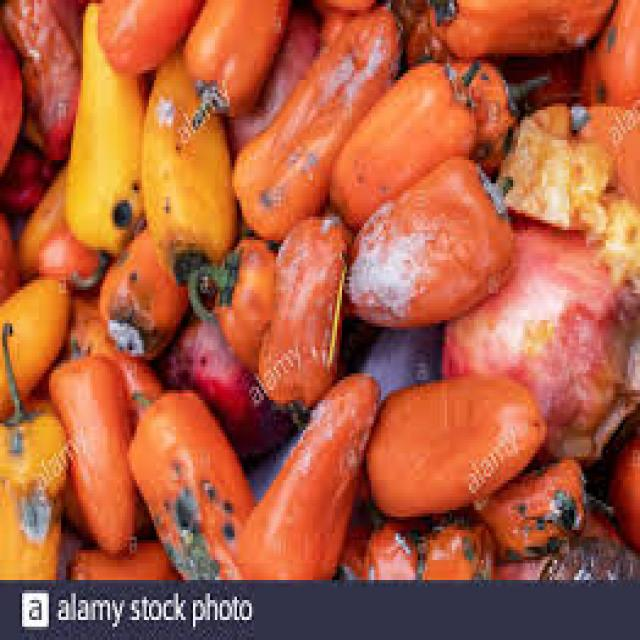organic waste: (0, 0, 638, 577), (444, 214, 638, 454), (227, 0, 398, 233), (218, 370, 376, 573), (342, 150, 511, 323), (328, 53, 482, 227), (364, 370, 545, 517), (498, 96, 638, 276), (125, 387, 254, 573), (61, 0, 142, 287), (139, 43, 235, 280), (159, 297, 298, 460), (46, 330, 137, 553), (254, 210, 344, 420), (0, 320, 66, 577), (220, 3, 322, 157), (174, 0, 288, 130), (66, 286, 156, 436), (0, 0, 78, 160), (183, 237, 274, 373), (435, 56, 547, 166), (471, 454, 589, 554), (98, 227, 183, 350), (491, 497, 618, 573), (0, 273, 66, 417), (425, 0, 613, 47), (95, 0, 208, 67), (349, 324, 440, 404), (574, 0, 638, 107), (569, 103, 638, 200), (535, 526, 638, 576), (37, 223, 105, 297), (416, 514, 494, 574), (64, 537, 190, 573), (496, 50, 579, 103), (391, 0, 452, 67), (606, 427, 638, 553), (359, 510, 418, 577), (0, 20, 22, 173), (0, 144, 56, 204), (310, 0, 381, 43), (330, 513, 366, 577), (0, 207, 20, 290), (54, 0, 80, 60)
